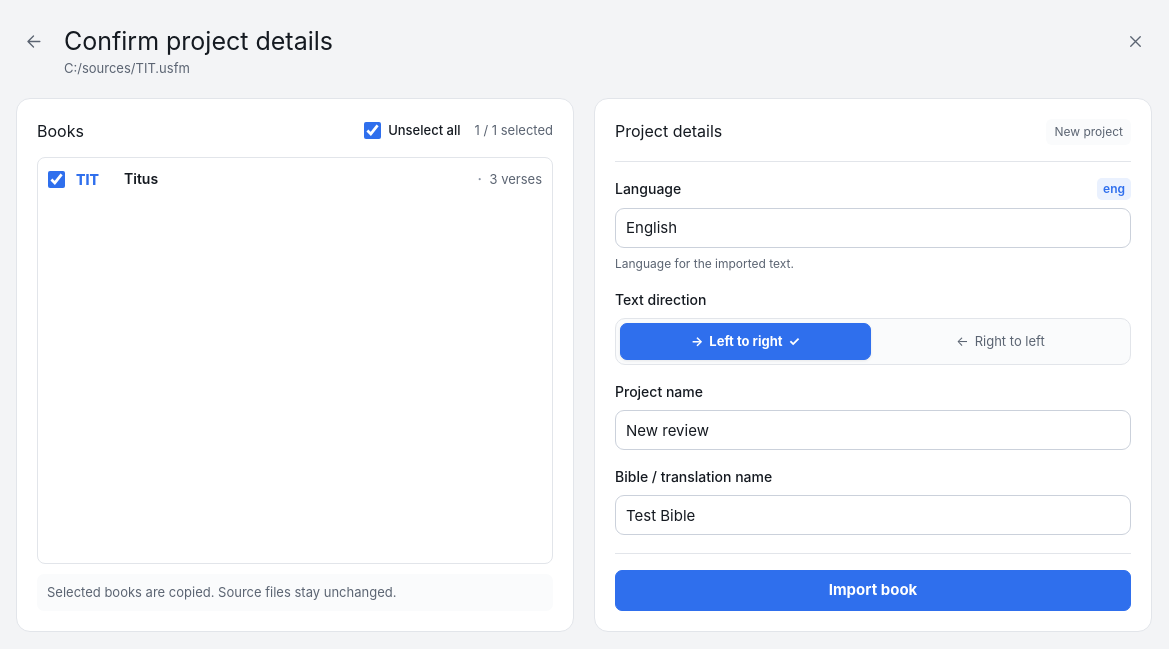
Test: duplicate import choices (#407) › closes import review and returns to Projects without opening or importing
Check: the heading "Confirm project details" is shown, box 64,26 -> 333,56
Click the button named "Close import review": [1135, 41] box 1118,24 -> 1152,58
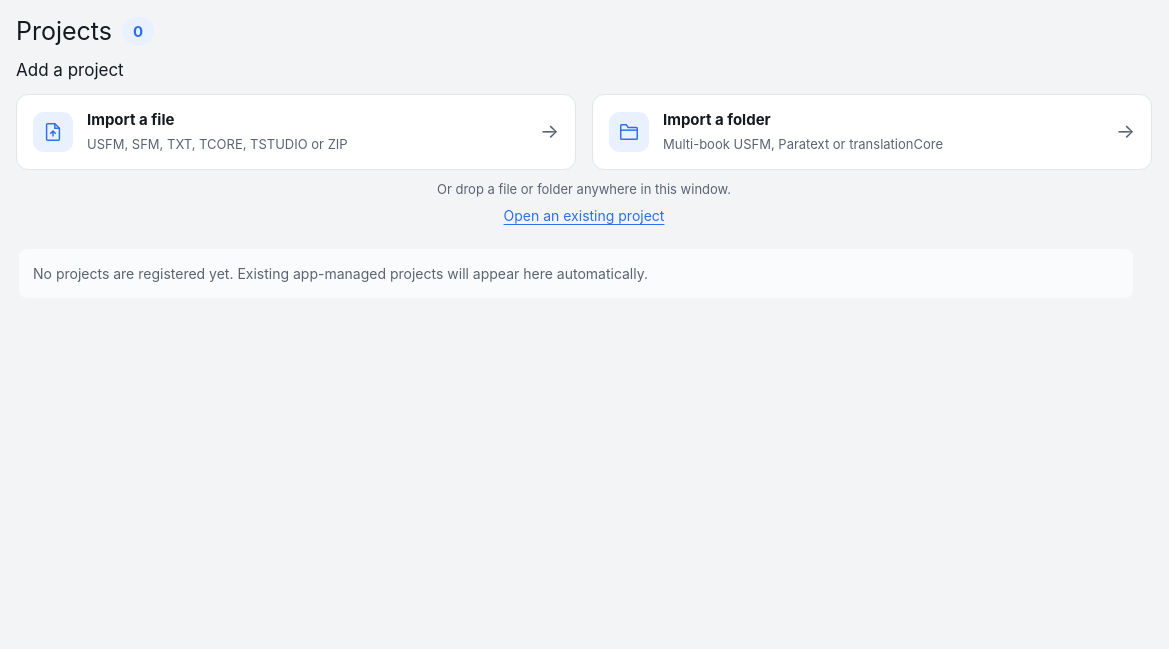
Check: the heading "Projects" is shown, box 16,16 -> 112,46
Check: the heading "Confirm project details" is gone
